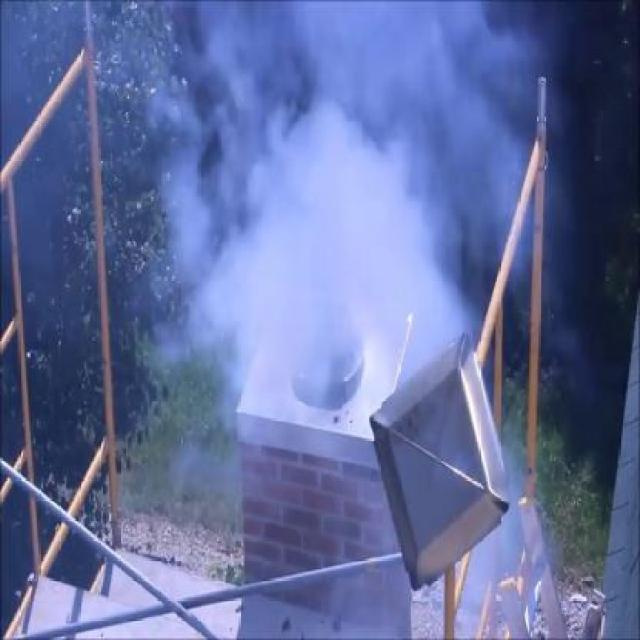smoke: (170, 11, 496, 338)
